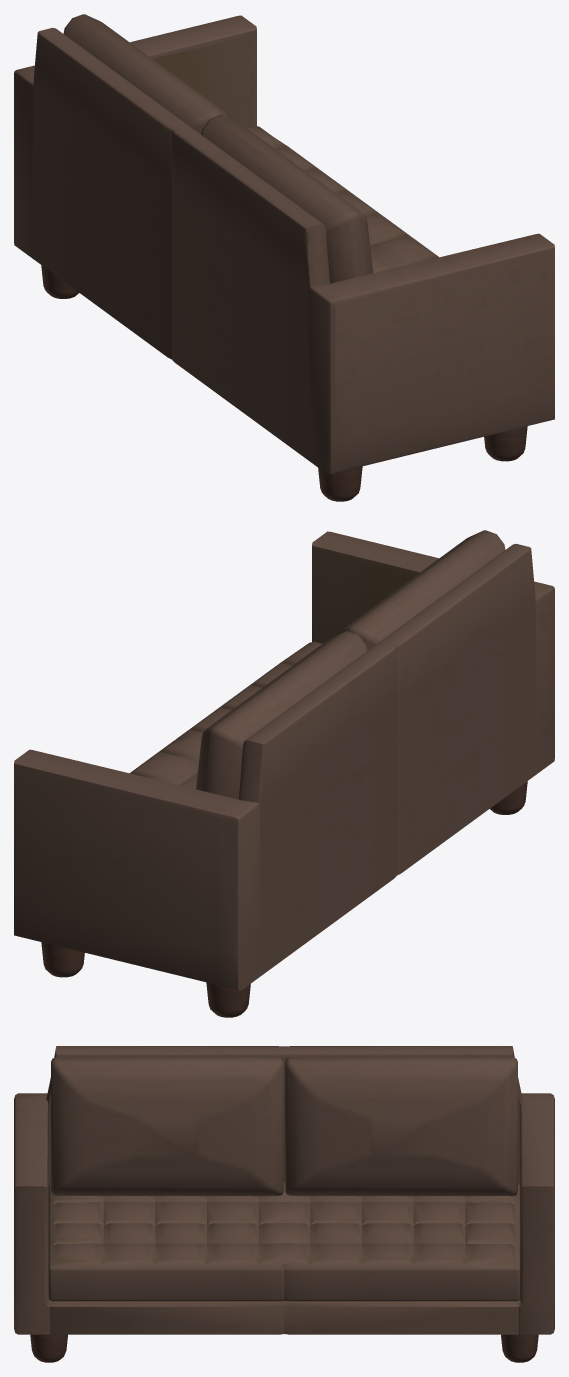
Rendered from bigyo2.obj.
The picture shows the model from 3 angles, top to bottom: view 1: azimuth 30°, elevation 25°; view 2: azimuth 150°, elevation 25°; view 3: azimuth 270°, elevation 25°; orthographic projection. The views are drawn at different scales.
Visible parts, largest first — view 1: Cube.008, Cube.010, Cube.009, Cylinder.002; view 2: Cube.008, Cube.010, Cube.009, Cylinder.002; view 3: Cube.010, Cube.009, Cube.008, Cylinder.002.
Boxes of the visible parts, <box> form: Cube.008: <box>14,15,554,474</box>; Cube.010: <box>63,14,372,283</box>; Cube.009: <box>246,125,438,273</box>; Cylinder.002: <box>41,265,527,501</box>; Cube.008: <box>14,531,554,990</box>; Cube.010: <box>196,530,505,799</box>; Cube.009: <box>130,641,322,789</box>; Cylinder.002: <box>41,781,527,1017</box>; Cube.010: <box>51,1057,517,1196</box>; Cube.009: <box>48,1181,520,1301</box>; Cube.008: <box>14,1046,554,1334</box>; Cylinder.002: <box>30,1334,538,1362</box>.
Bounding box in the file's own units: 2 × 2.34 × 4.86.
Materials: 1 (1 with a texture image).
